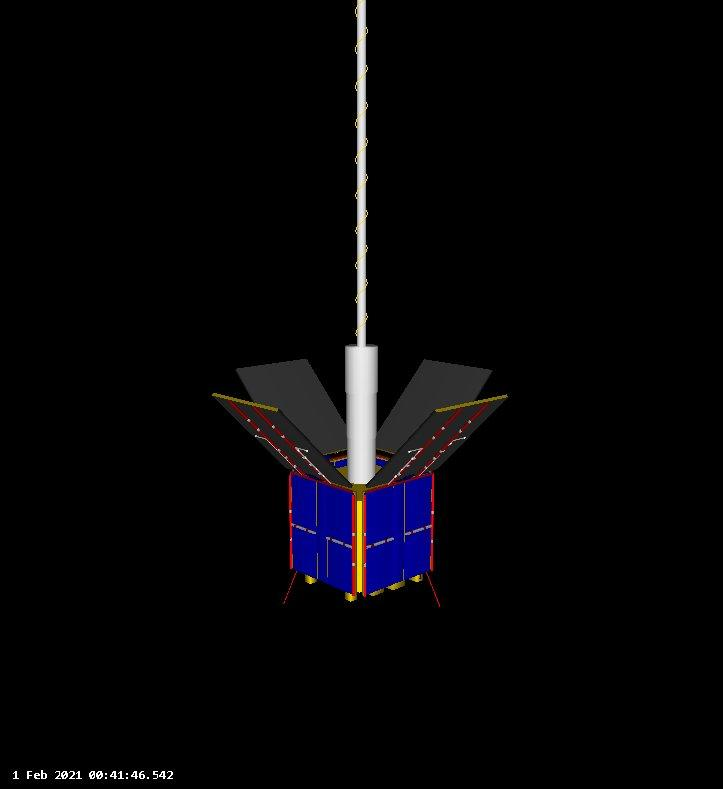antenna: (340, 0, 383, 488), (280, 568, 302, 609), (425, 571, 445, 611)
solar: (362, 471, 436, 600), (290, 474, 357, 596)
